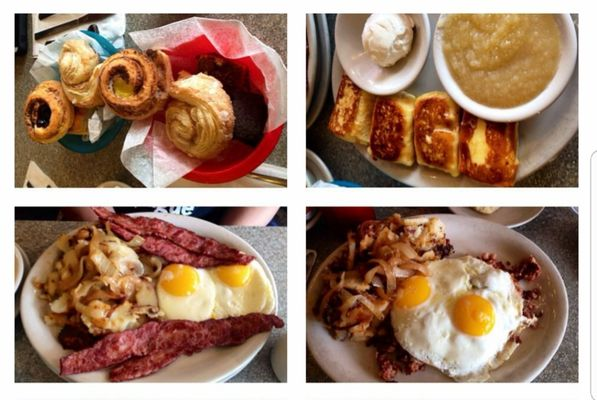pasta: (165, 72, 235, 161)
soup: (19, 210, 285, 381)
sushi: (20, 16, 288, 190), (432, 14, 578, 123)
